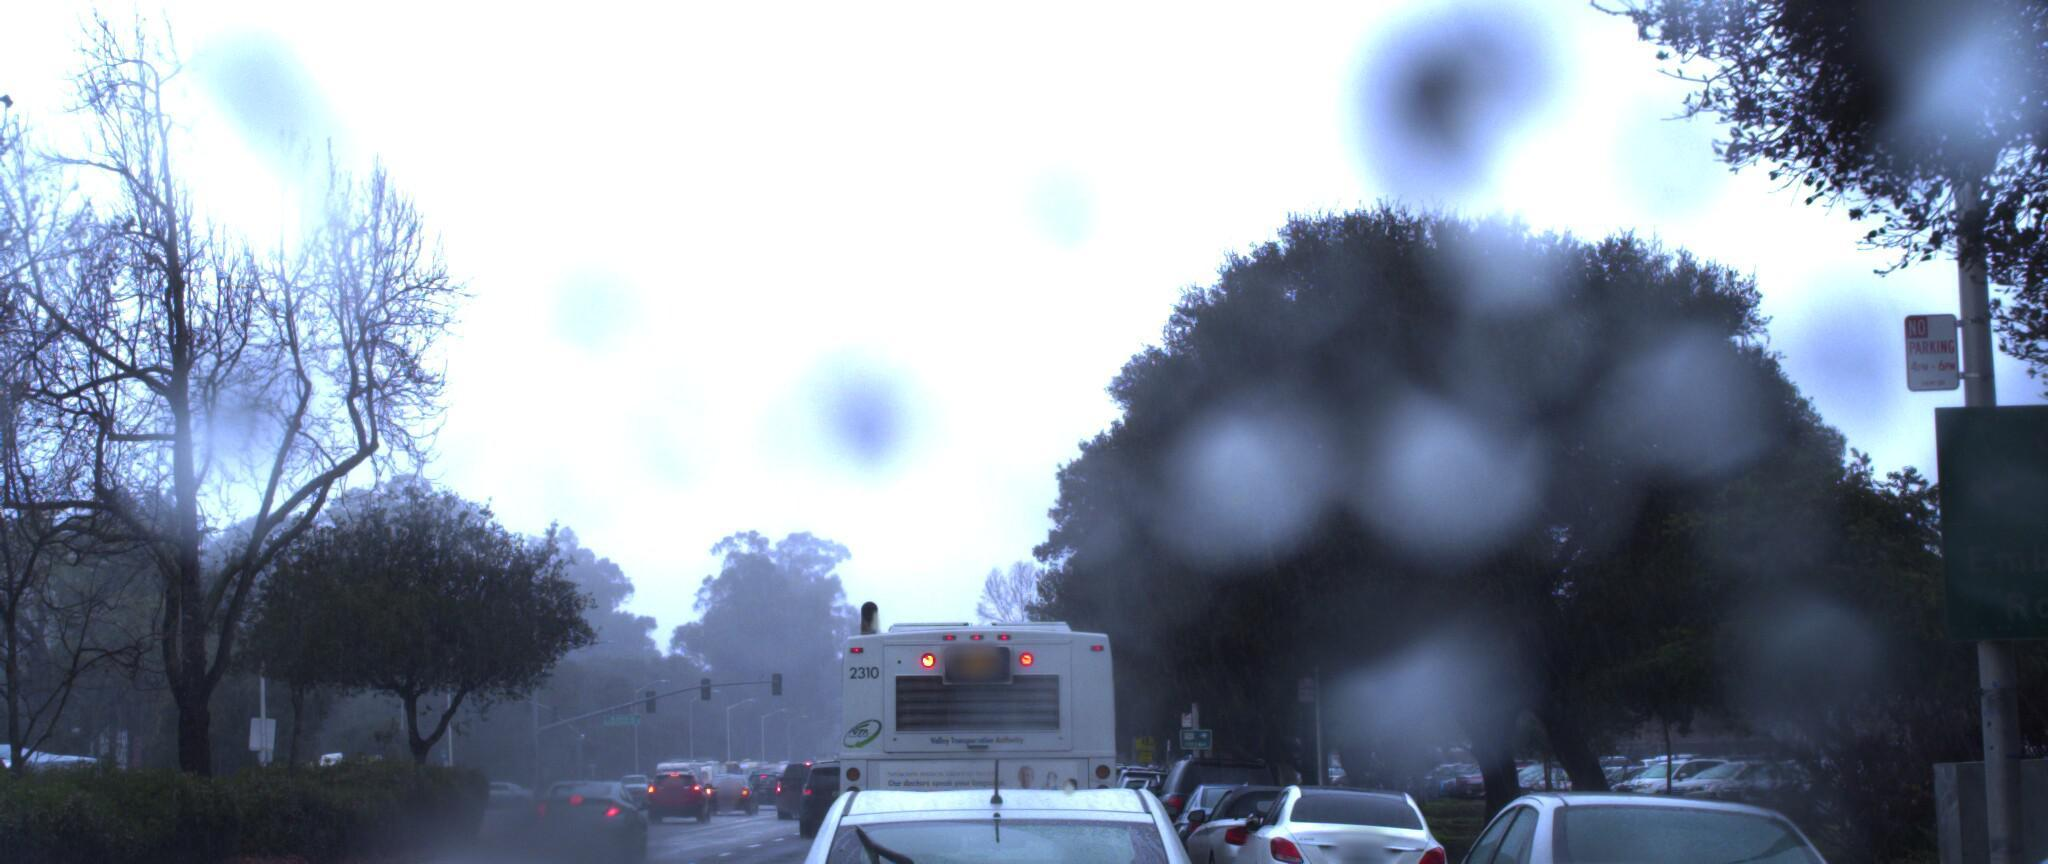bus: (820, 578, 1142, 864)
car: (712, 764, 1273, 864), (1352, 784, 1910, 864), (1196, 777, 1452, 864), (1671, 814, 2048, 864), (1160, 790, 1348, 864), (509, 784, 640, 864)
